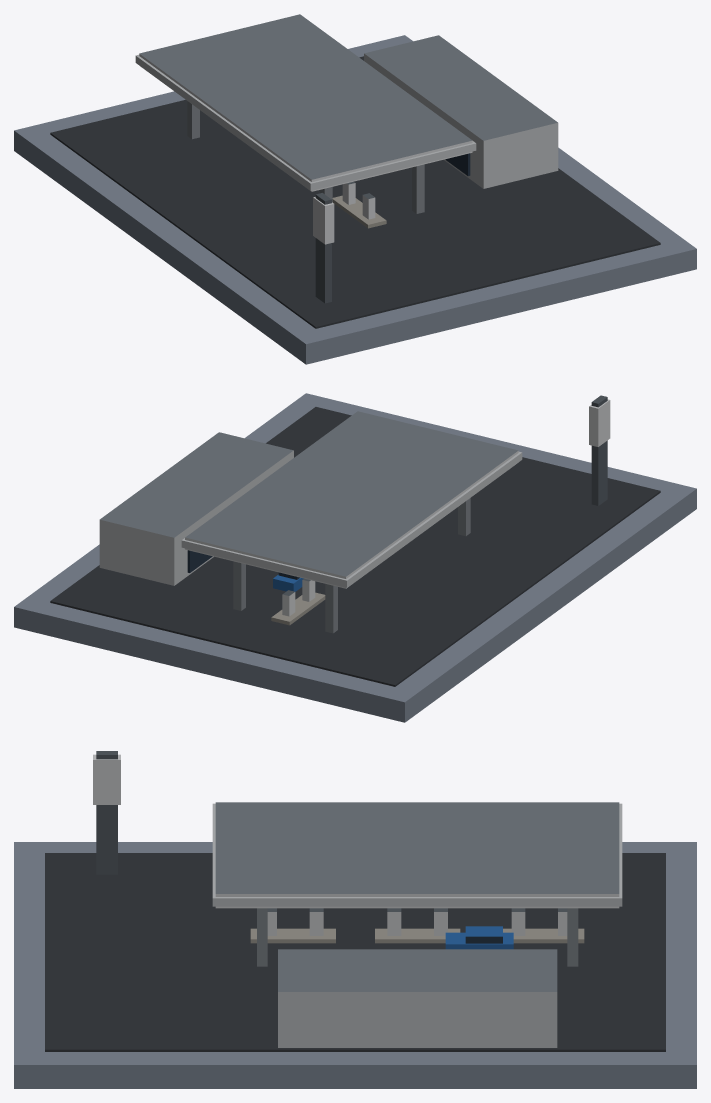
The model's file is fuel_station.glb.
3 views of the same model, one above another, from view 1: azimuth 30°, elevation 25°; view 2: azimuth 150°, elevation 25°; view 3: azimuth 270°, elevation 25° (orthographic). The views are drawn at different scales.
Visible parts, largest first — view 1: fuel_station; view 2: fuel_station; view 3: fuel_station.
Boxes of the visible parts, x1,y1,x2,y2 form: fuel_station: [14, 14, 696, 364]; fuel_station: [14, 393, 696, 722]; fuel_station: [14, 751, 696, 1088].
Size of the model in its own units: 34 by 10.35 by 44.
